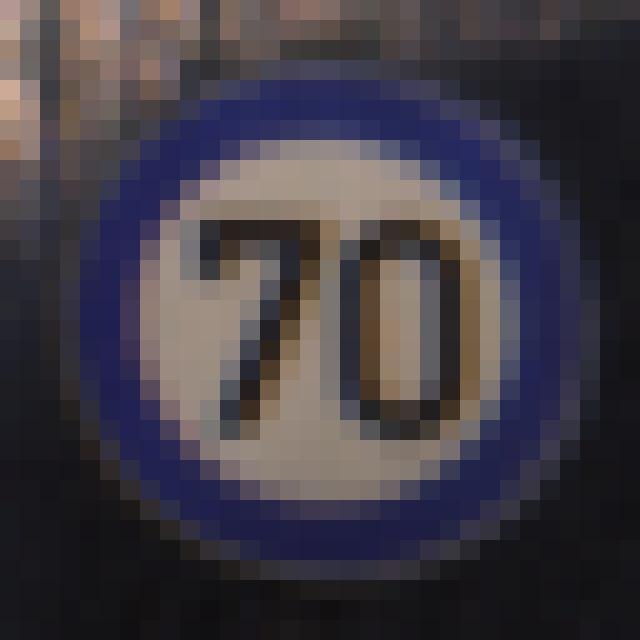SPEED LIMIT 70: (67, 81, 590, 574)
